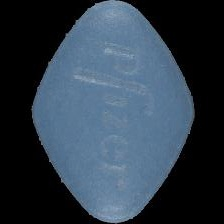21695-157: (0, 0, 224, 224)
